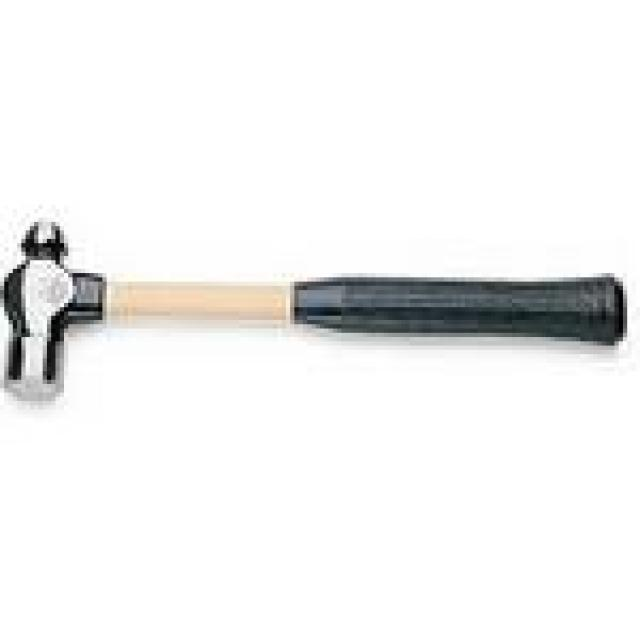hammer: (0, 210, 633, 414)
